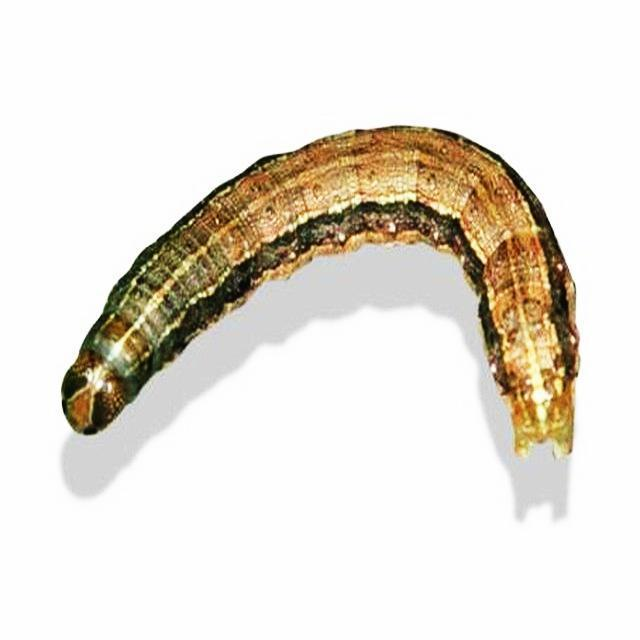gusano_cogollero: (56, 129, 584, 459)
